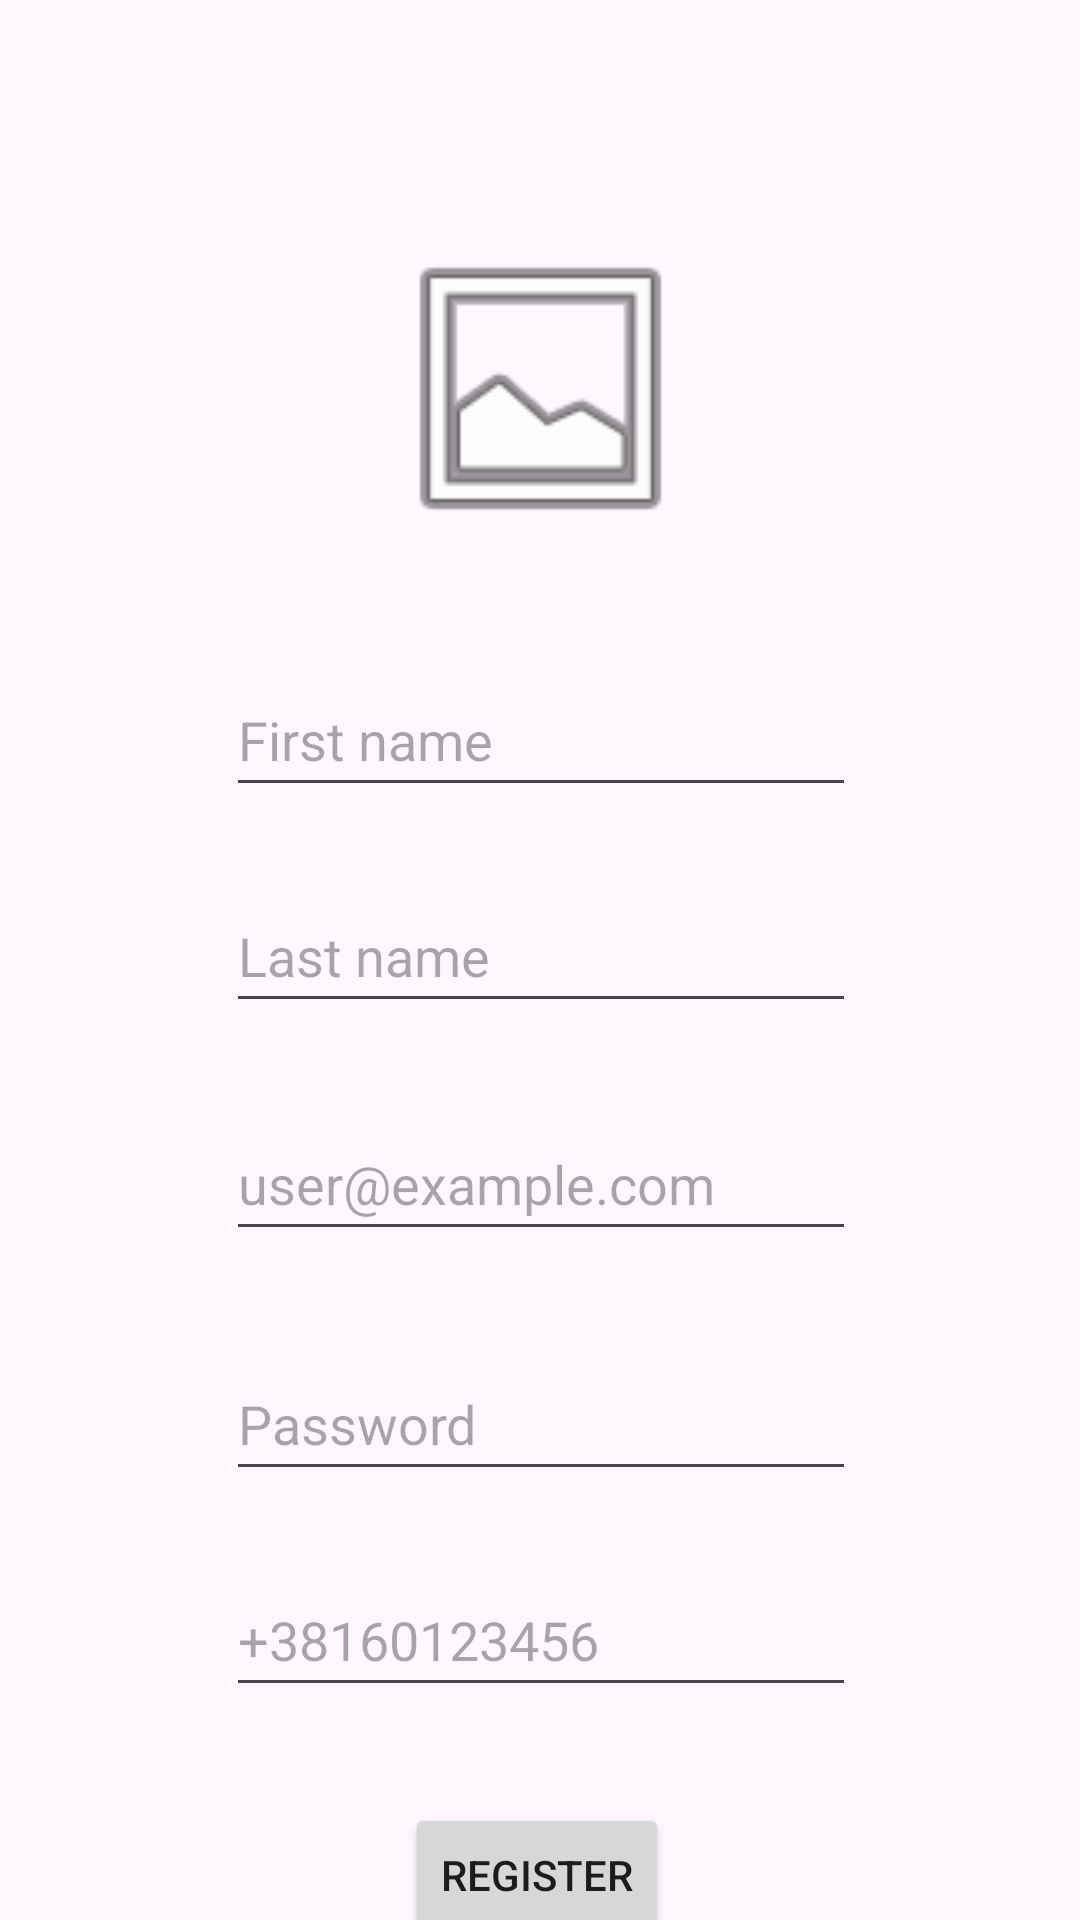

Screen size 1080x1920. Icon name, then its center in pixels as point (x, y):
gallery: point (540, 388)
